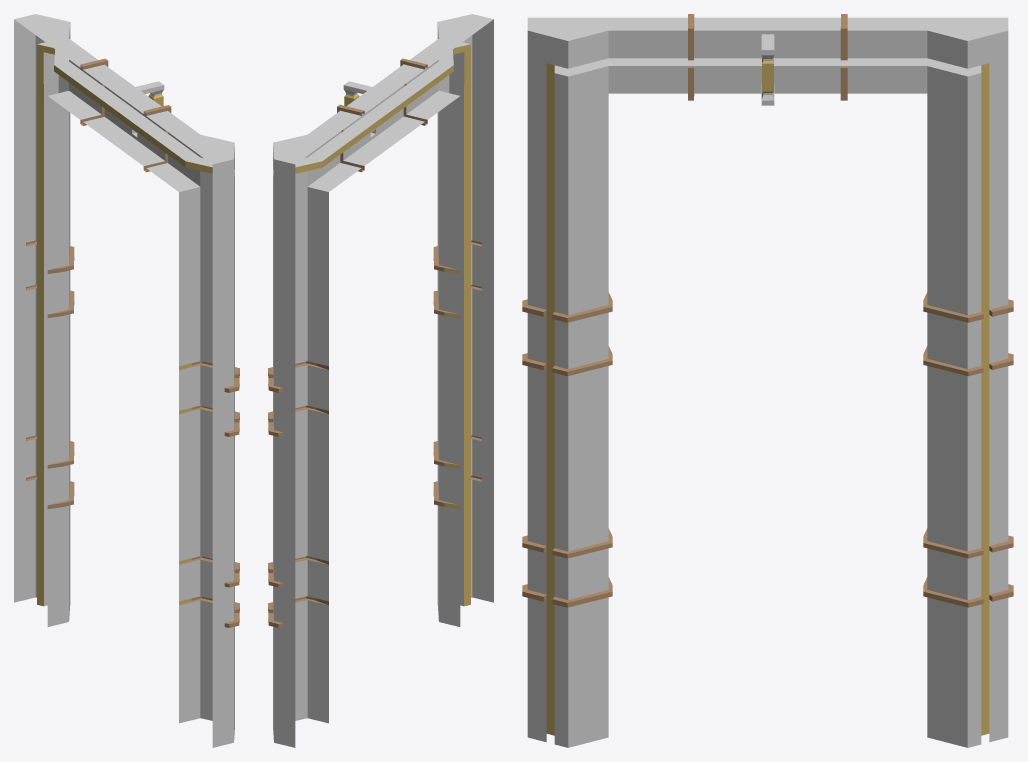
File: sortie.fbx
The picture shows the model from 3 angles, left to right: view 1: azimuth 30°, elevation 25°; view 2: azimuth 150°, elevation 25°; view 3: azimuth 270°, elevation 25°; orthographic projection. The views are drawn at different scales.
Parts seen in each view (by area): view 1: Cube.006; view 2: Cube.006; view 3: Cube.006.
Boxes of the visible parts, x1,y1,x2,y2 form: Cube.006: [14, 14, 239, 747]; Cube.006: [268, 14, 493, 747]; Cube.006: [522, 14, 1013, 747].
Size of the model in its own units: 0.0137 by 0.1591 by 0.0997.
